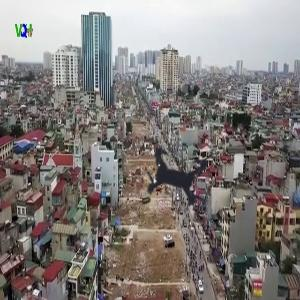drone: (108, 103, 248, 243)
